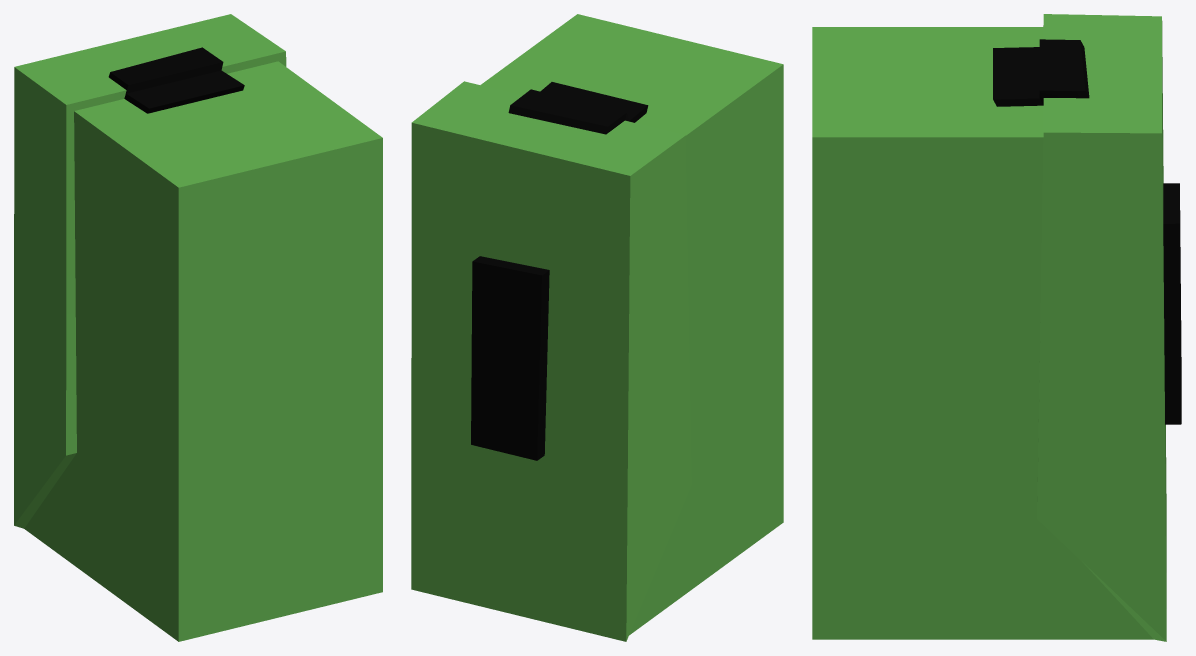
File: item-ammobox.glb
3 views of the same model, side by side, from view 1: azimuth 30°, elevation 25°; view 2: azimuth 150°, elevation 25°; view 3: azimuth 270°, elevation 25° (orthographic). The views are drawn at different scales.
Size of the model in its own units: 1.69 by 3.35 by 2.16.
